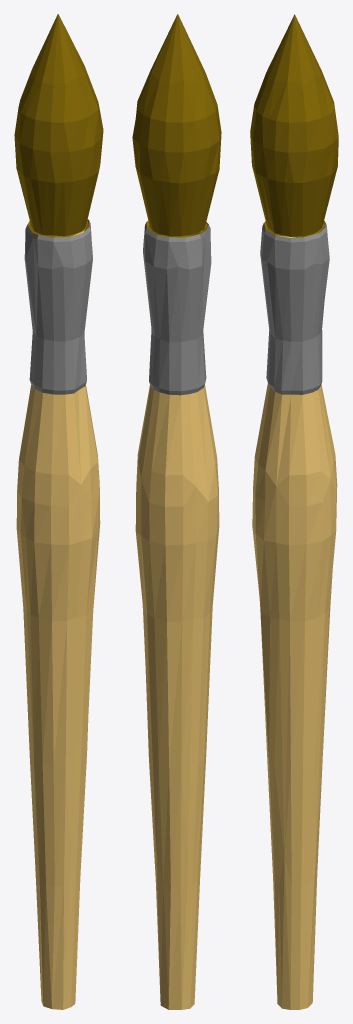
File: stm_item_PaintBrush.fbx
3 renders of one model, left to right at view 1: azimuth 30°, elevation 25°; view 2: azimuth 210°, elevation 25°; view 3: azimuth 330°, elevation 25°, orthographic.
Parts seen in each view (by area): view 1: Paint_Brush, Just_the_Tip; view 2: Paint_Brush, Just_the_Tip; view 3: Paint_Brush, Just_the_Tip.
Boxes of the visible parts, x1,y1,x2,y2 form: Paint_Brush: [14, 66, 103, 1009]; Just_the_Tip: [30, 14, 85, 85]; Paint_Brush: [132, 71, 221, 1009]; Just_the_Tip: [150, 14, 205, 84]; Paint_Brush: [250, 72, 338, 1009]; Just_the_Tip: [266, 14, 321, 84].
Size of the model in its own units: 312 by 3816 by 309.
